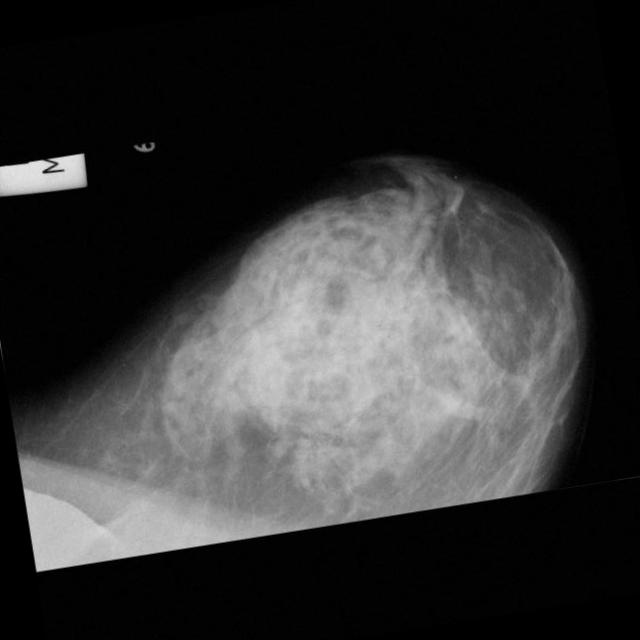ARCH: (271, 397, 357, 483)
